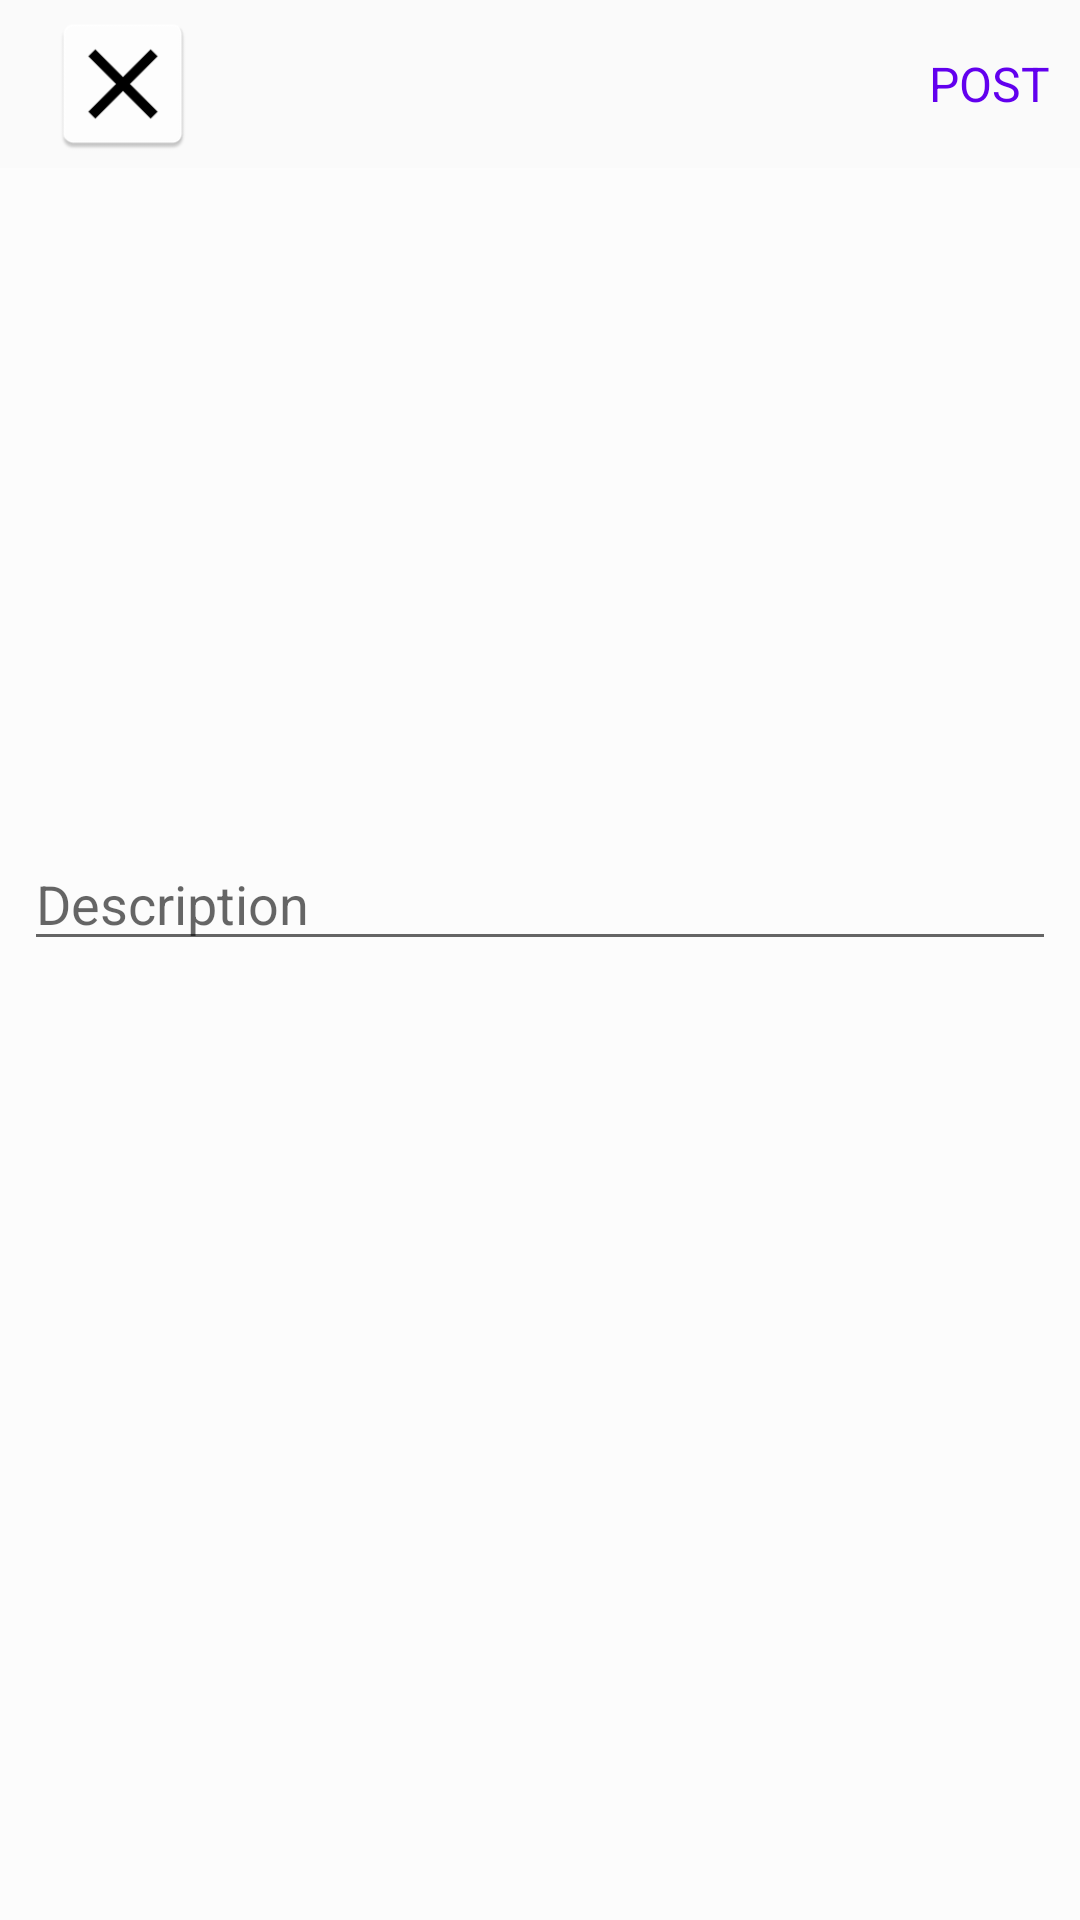

Icon bounding boxes for this 1080×1920 phone screenshot, format (x1, y1, x2, y2):
close: (64, 36, 183, 147)
